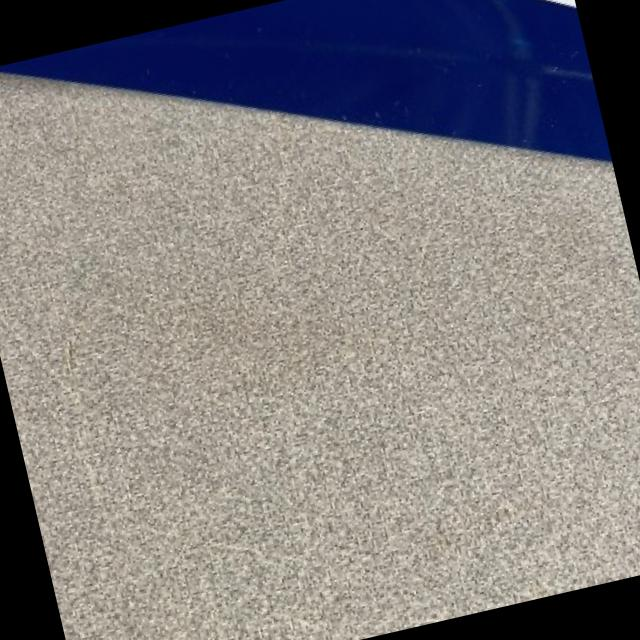healthy: (0, 73, 640, 640), (0, 73, 621, 365), (0, 0, 608, 155)
